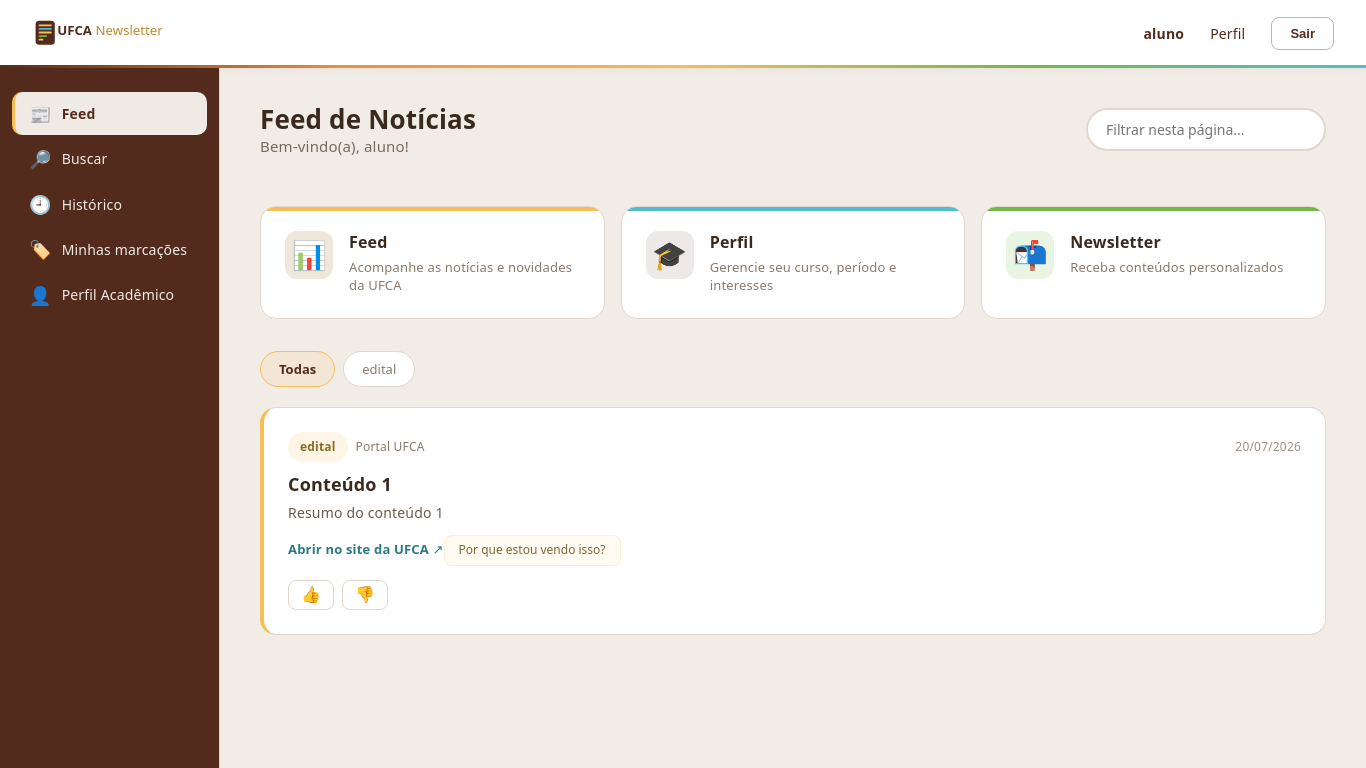
Scenario: Dashboard — tooltip "por que estou vendo isso?" › revela a razão da recomendação ao clicar, sem abrir o modal do conteúdo
Expected: the heading "Conteúdo 1" is shown, 288,472 -> 392,496
Click the button "Por que estou vendo isso?" at (532, 551), box 444,535 -> 620,566
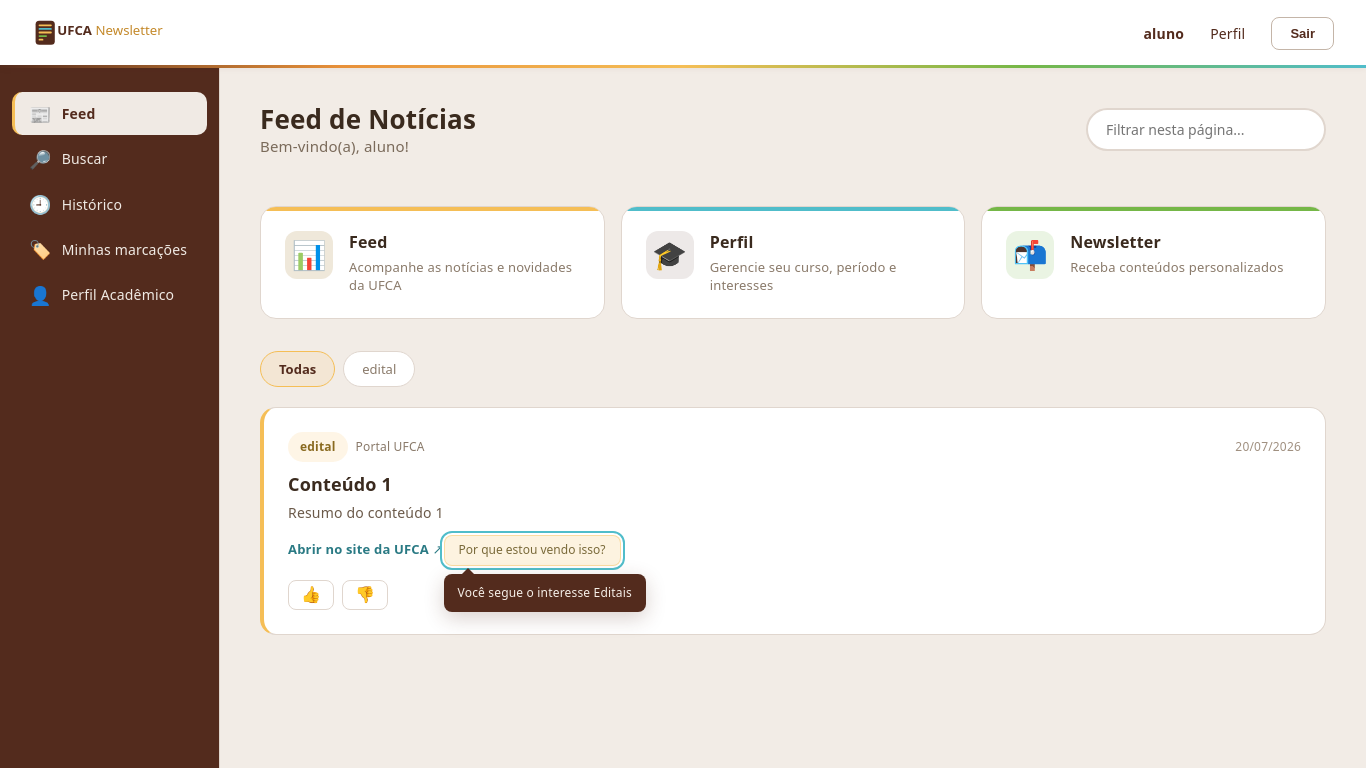
Expected: the tooltip reads "Você segue o interesse Editais", 458,584 -> 632,601
